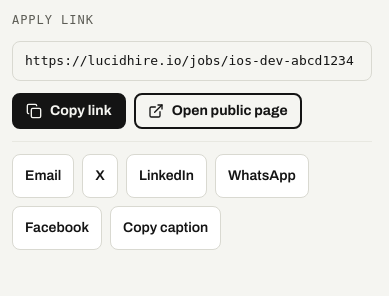
Scenario: SharePanel › shows the link, copies it and says so
This screenshot has width=389, height=296.
Expected: the text "https://lucidhire.io/jobs/ios-dev-abcd1234" is shown, [12,41,372,81]
Click the button "Copy link" at (69, 111), box [12,93,126,129]
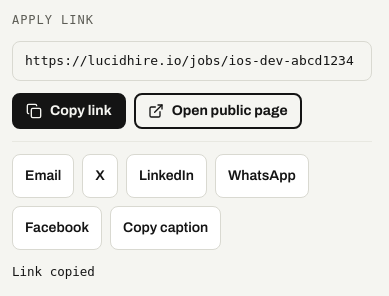
Now the message reads "Link copied", box [12,264,95,279]
